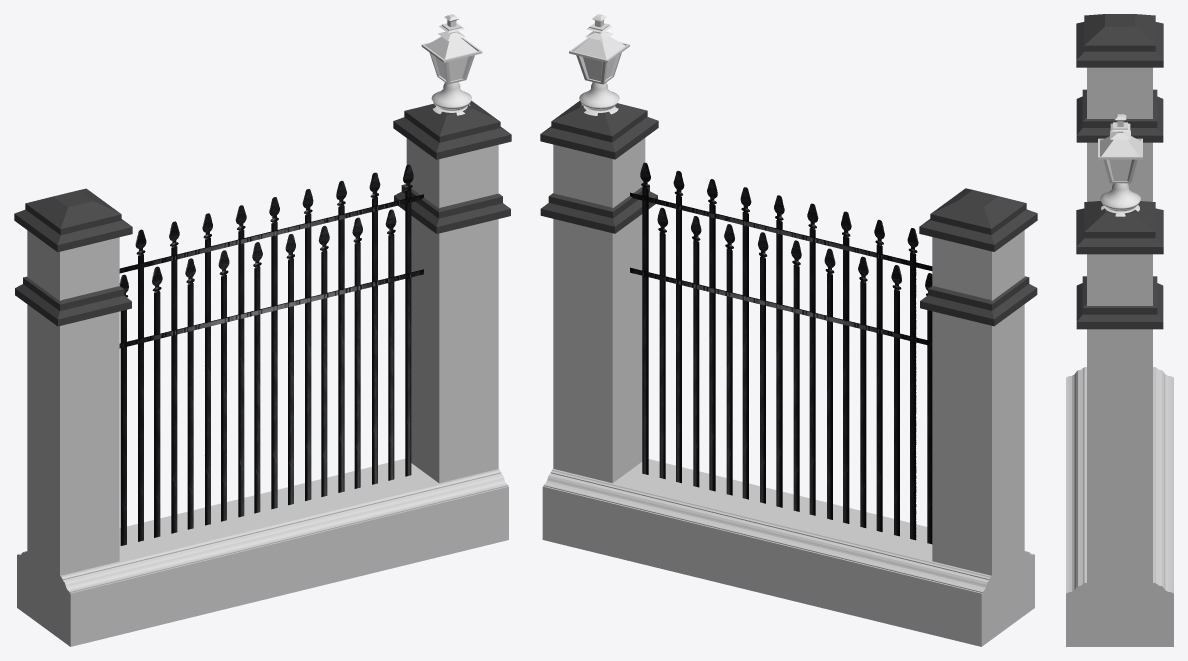
File: house fence.fbx
3 views of the same model, side by side, from view 1: azimuth 30°, elevation 25°; view 2: azimuth 150°, elevation 25°; view 3: azimuth 270°, elevation 25° (orthographic).
Parts seen in each view (by area): view 1: Plane.074, Plane.077, Cylinder; view 2: Plane.074, Plane.077, Cylinder; view 3: Plane.074, Cylinder.
Boxes of the visible parts, bbox=[...] form: Plane.074: bbox=[14, 100, 511, 646]; Plane.077: bbox=[119, 164, 423, 545]; Cylinder: bbox=[421, 14, 482, 115]; Plane.074: bbox=[540, 101, 1037, 646]; Plane.077: bbox=[630, 162, 932, 544]; Cylinder: bbox=[569, 14, 629, 115]; Plane.074: bbox=[1066, 14, 1173, 646]; Cylinder: bbox=[1098, 114, 1142, 216].
Bounding box in the file's own units: 323 × 348 × 65.74.
